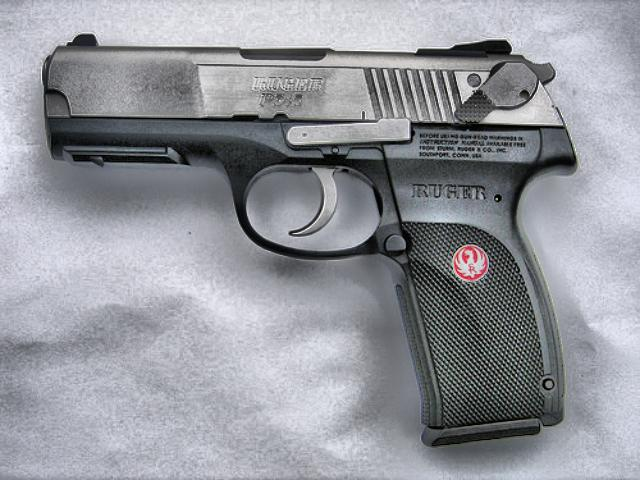pistol: (39, 30, 570, 446)
